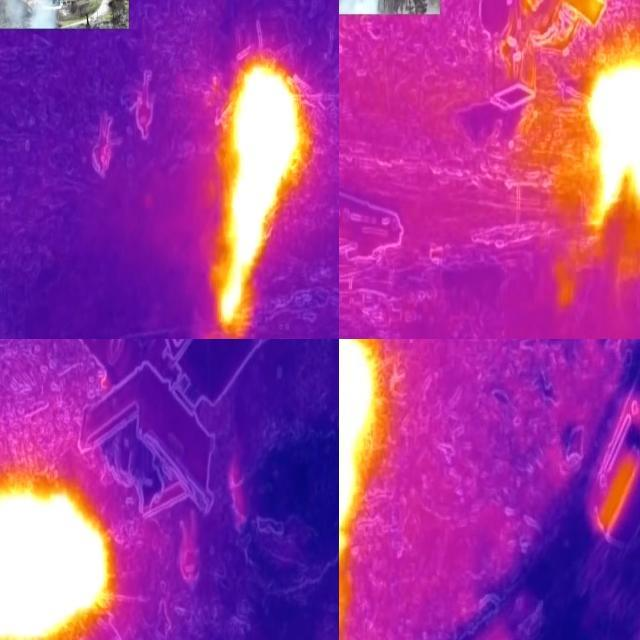fire: (216, 55, 309, 339), (1, 475, 114, 640), (340, 340, 382, 598), (587, 55, 640, 229)
